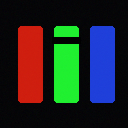3 line_h: (52, 37, 80, 43)
